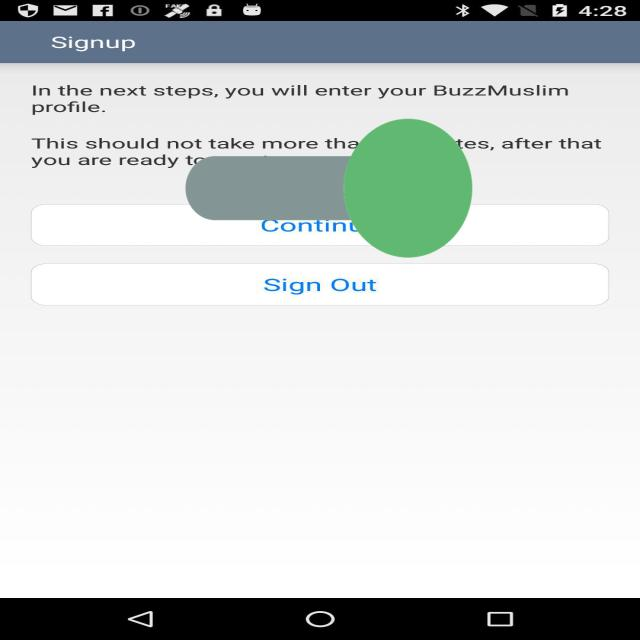social proof: (185, 33, 472, 343)
